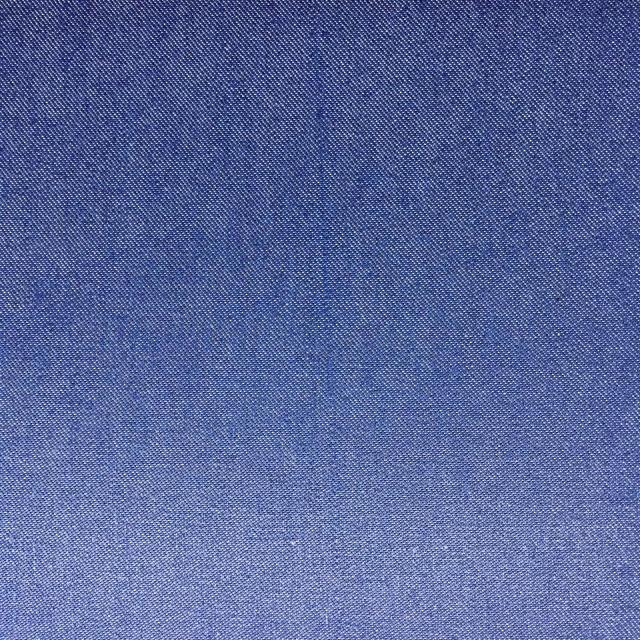Line: (314, 8, 338, 431)
